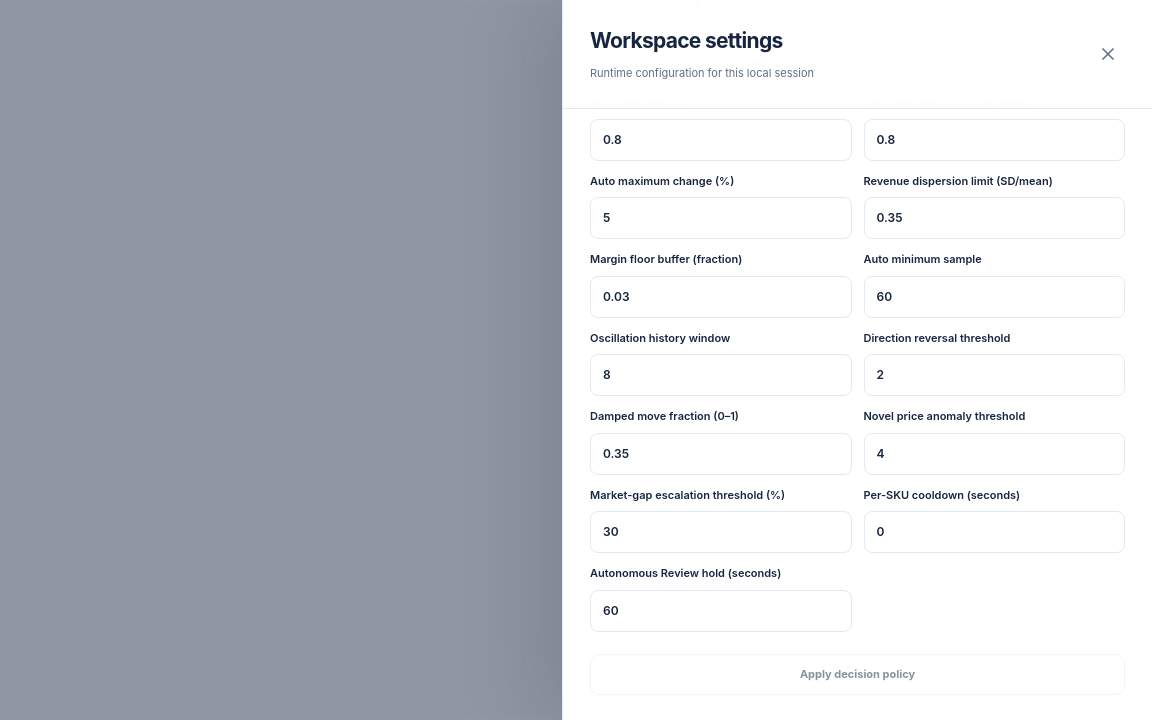
it: policy editing submits only changed market-gap threshold and displays version update
The image size is (1152, 720).
(page scrolled)
Replace the text in the number field labelled "Market-gap escalation threshold (%)" with "25" at (721, 532), box [590,511,852,553]
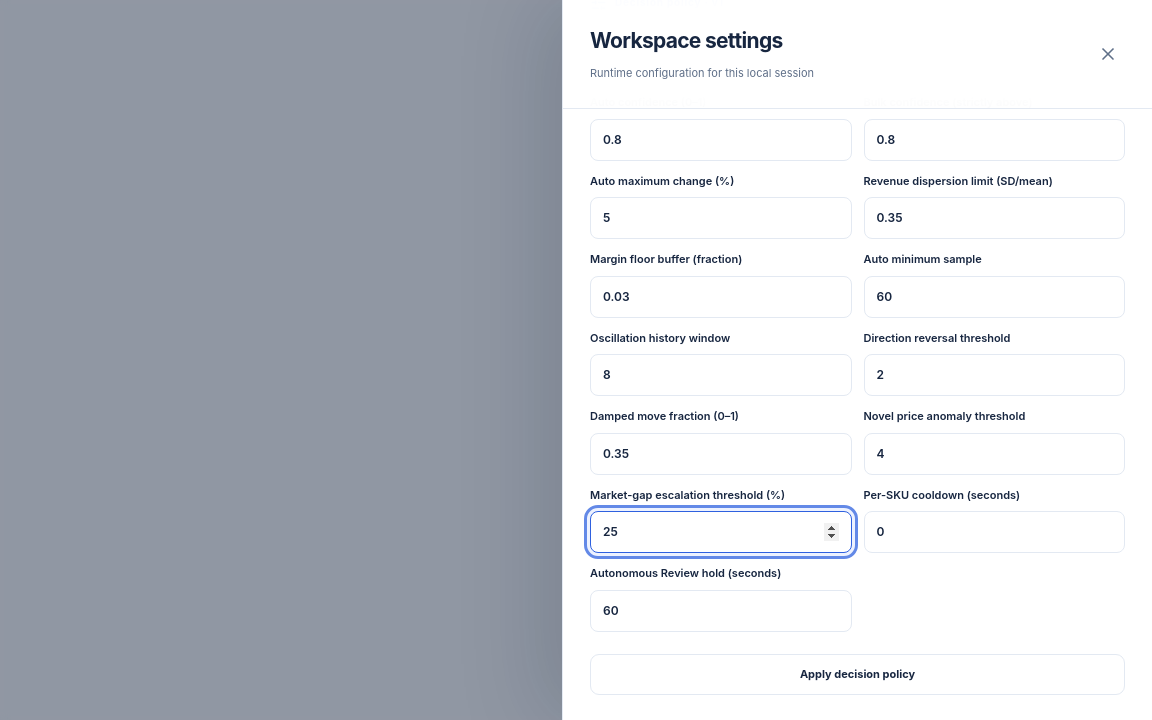
Click the button "Apply decision policy" at (858, 674), box [590,654,1125,695]
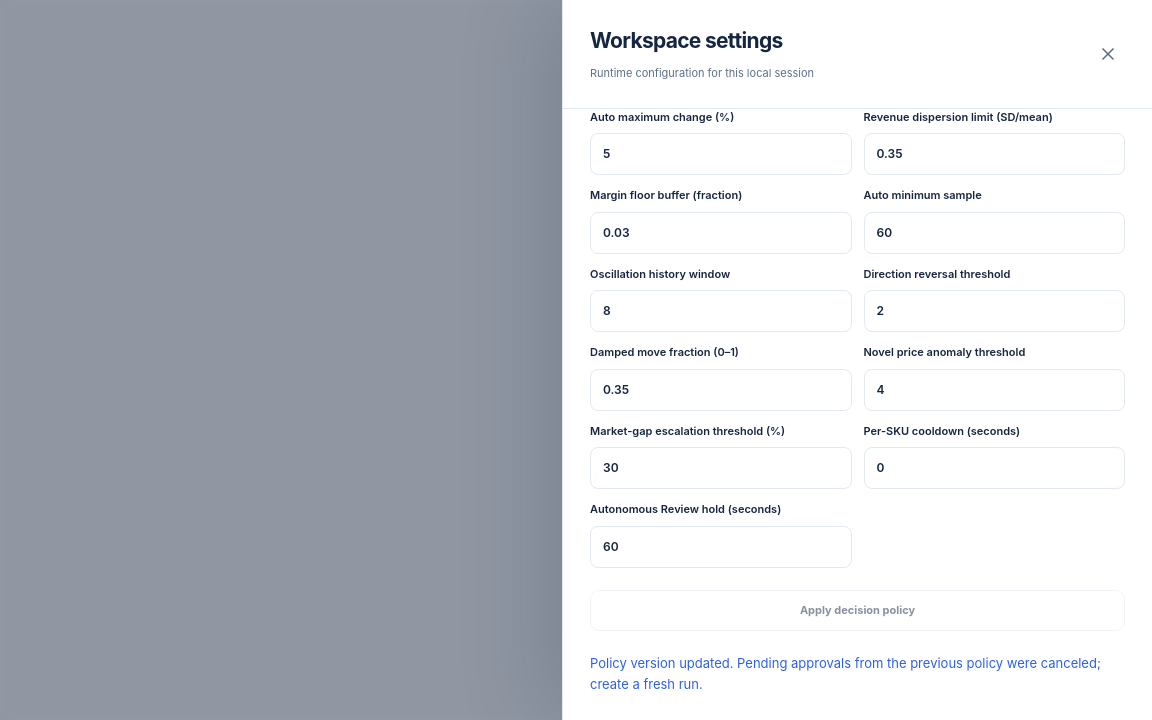
Result: the text "Policy version updated" is shown at [590,655,1101,692]
